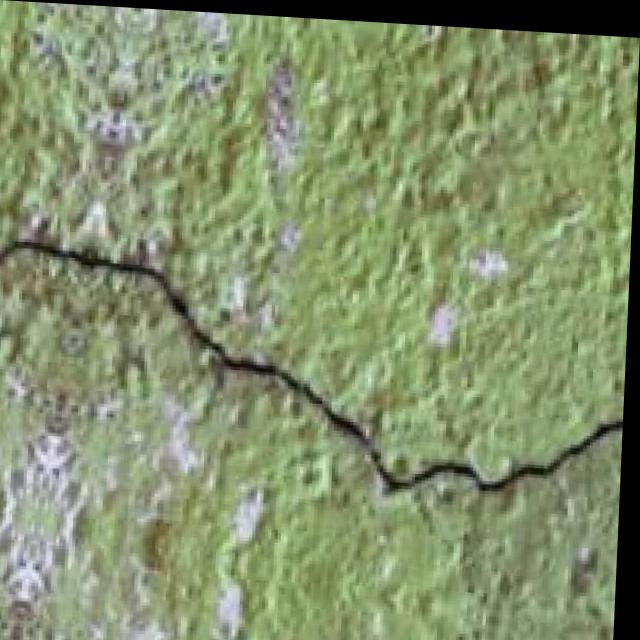Crack: (0, 214, 633, 520)
